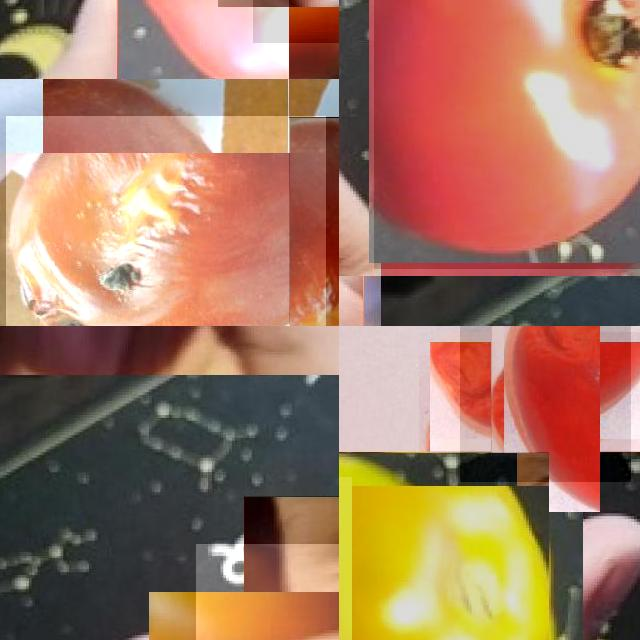Fresh Tomato: (374, 0, 640, 269), (117, 0, 289, 79)
Rotten Tomato: (5, 116, 326, 326), (339, 452, 549, 640), (460, 326, 630, 482), (196, 544, 339, 640)
